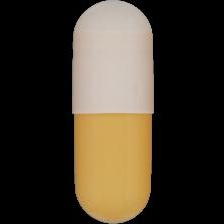50436-4315: (0, 0, 224, 224)
